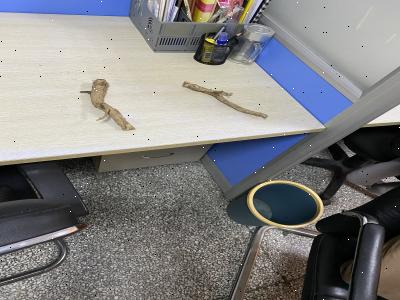Root: (182, 81, 268, 119), (80, 79, 135, 130)
